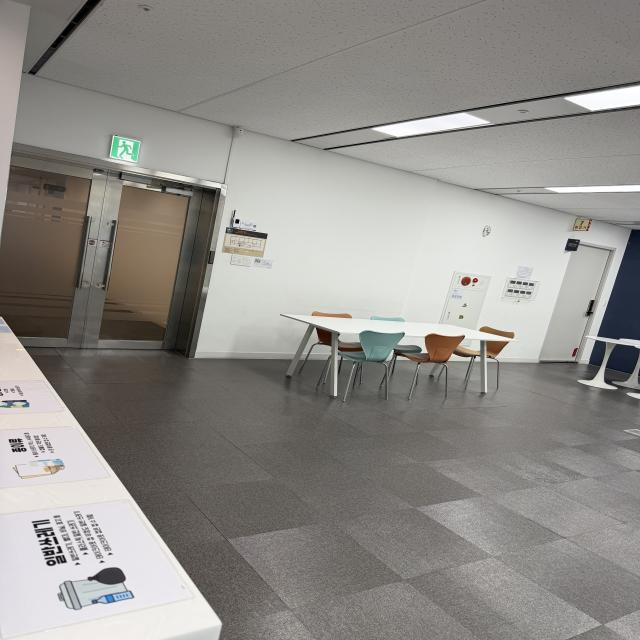rear_door: (0, 159, 187, 347)
